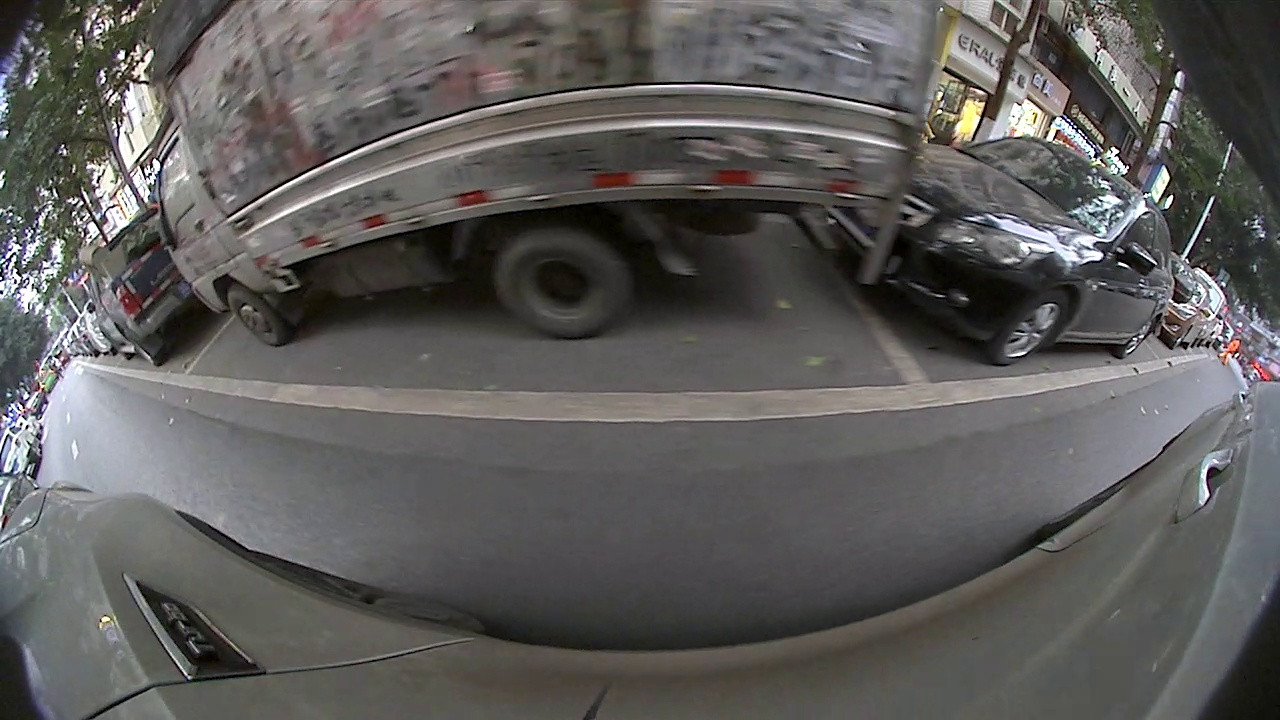car: (96, 41, 583, 343), (704, 45, 1081, 356), (1063, 211, 1178, 378), (31, 280, 88, 348)
front: (317, 219, 448, 344), (1007, 306, 1069, 357)
person: (586, 1, 681, 268)
rear: (766, 247, 874, 335), (132, 274, 186, 334), (1101, 344, 1143, 380)
